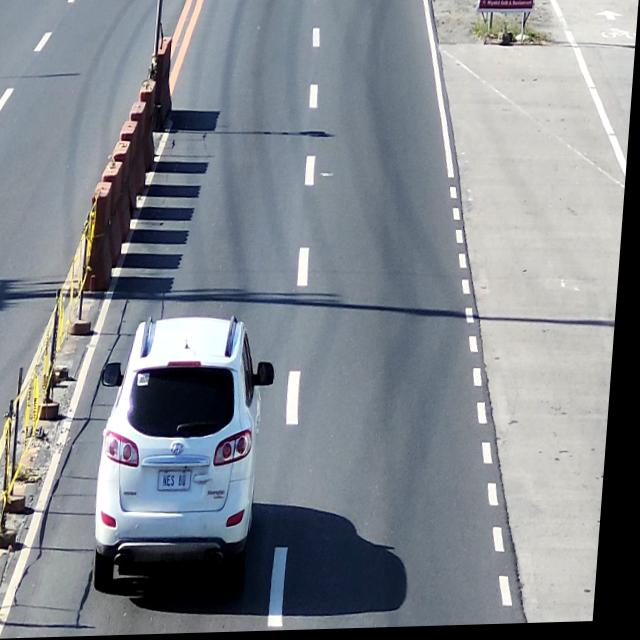Car: (100, 316, 273, 588)
License-Plate: (164, 470, 201, 493)
